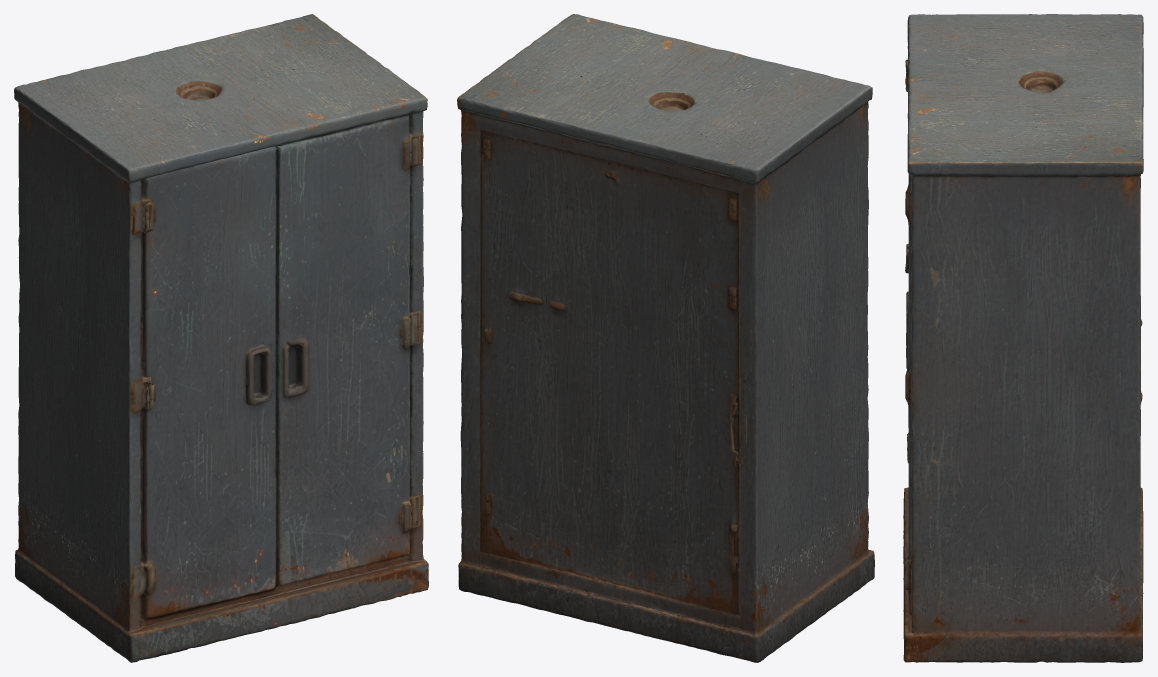
The model's file is Cabinet.glb.
The picture shows the model from 3 angles, left to right: view 1: azimuth 30°, elevation 25°; view 2: azimuth 150°, elevation 25°; view 3: azimuth 270°, elevation 25°; orthographic projection. The views are drawn at different scales.
Visible parts, largest first — view 1: texture_mapping; view 2: texture_mapping; view 3: texture_mapping.
Boxes of the visible parts, <box> form: texture_mapping: <box>14,14,428,662</box>; texture_mapping: <box>457,14,874,662</box>; texture_mapping: <box>903,14,1143,662</box>.
Bounding box in the file's own units: 0.6375 × 0.9999 × 0.4332.
Materials: 1 (1 with a texture image).
